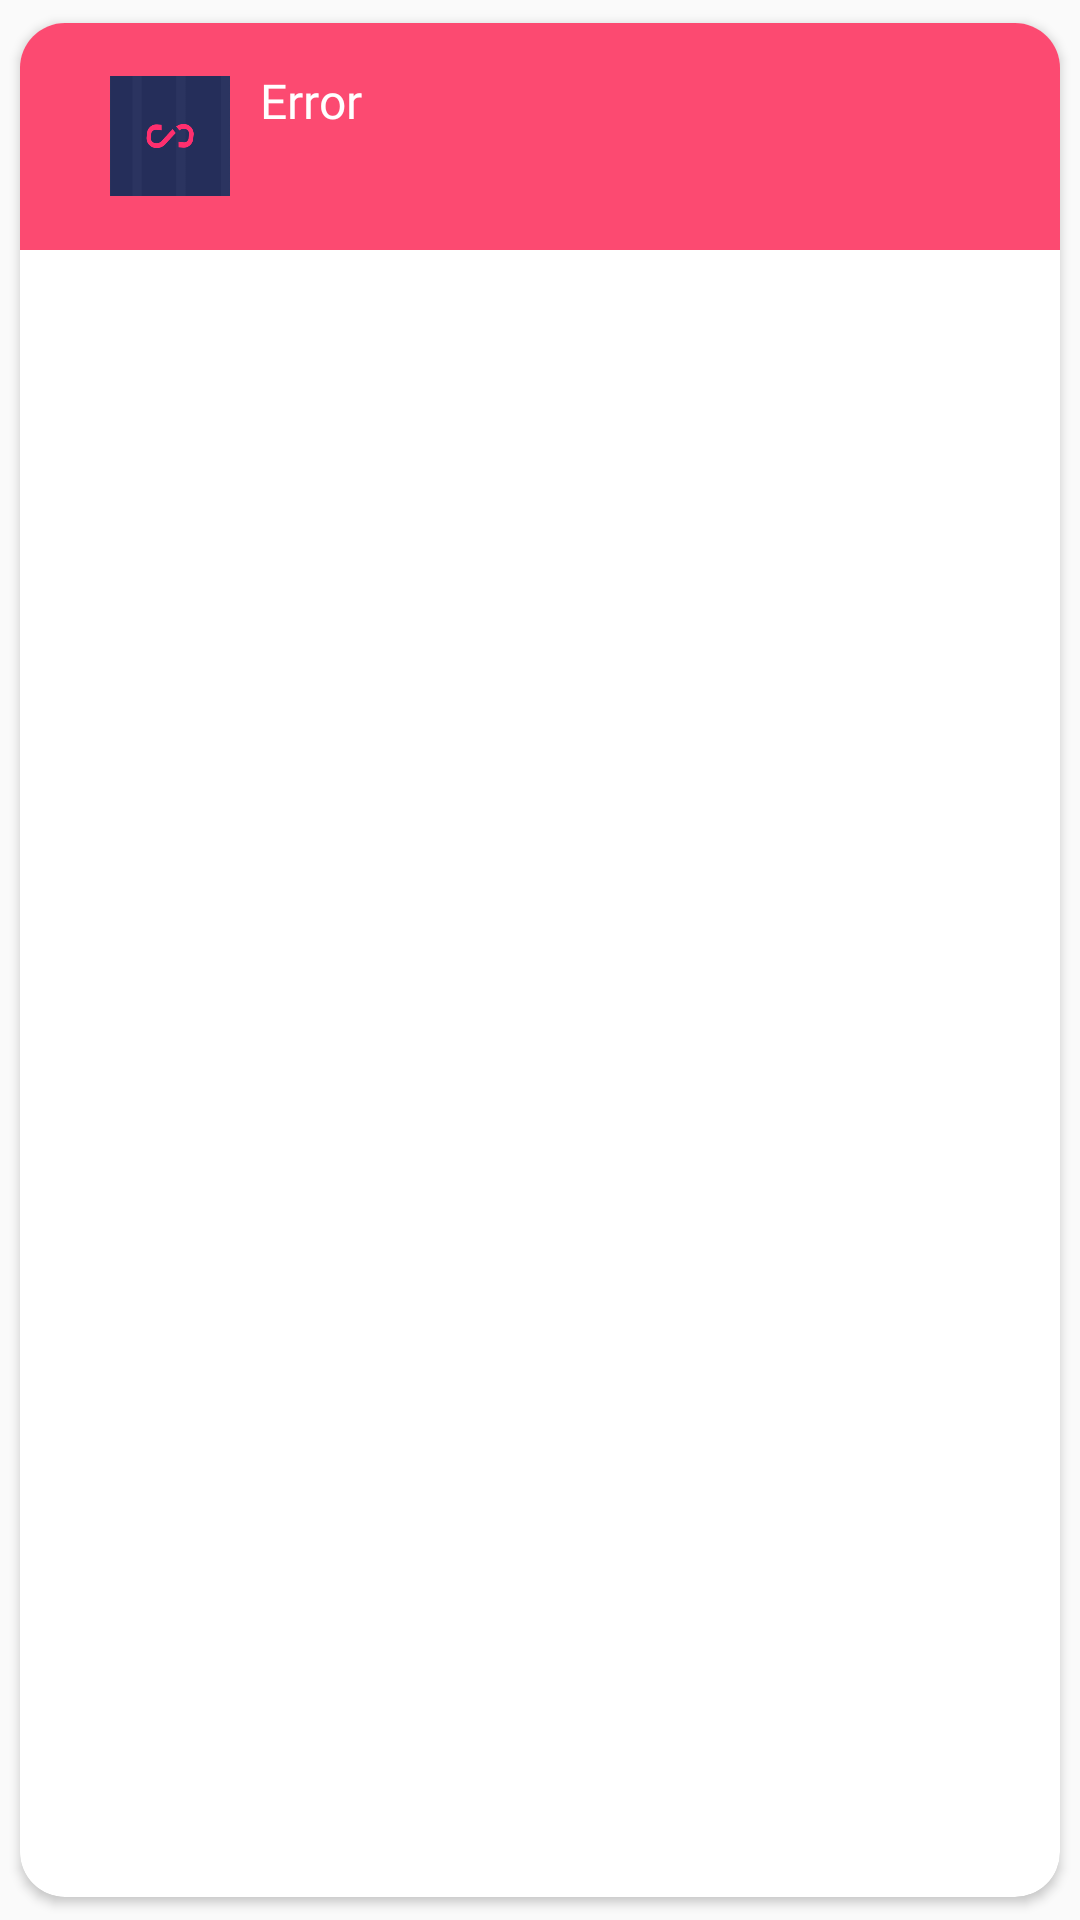

Icon bounding boxes for this 1080px x 1920px phone screenshot, format region(x1, y1, x2, y2):
app: region(110, 76, 230, 196)
